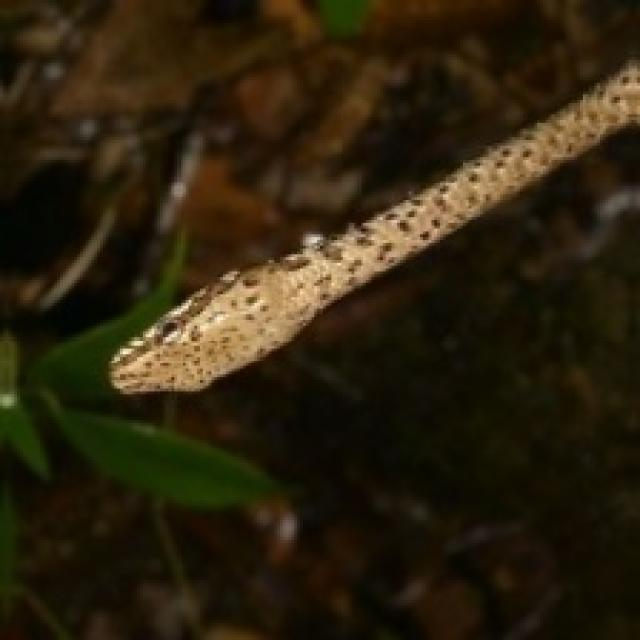philippine whip snake: (109, 60, 637, 391)
